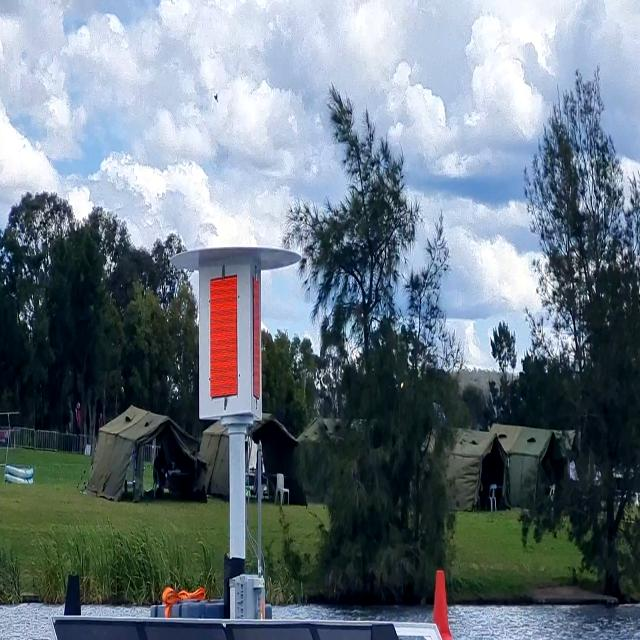led: (204, 266, 248, 408)
